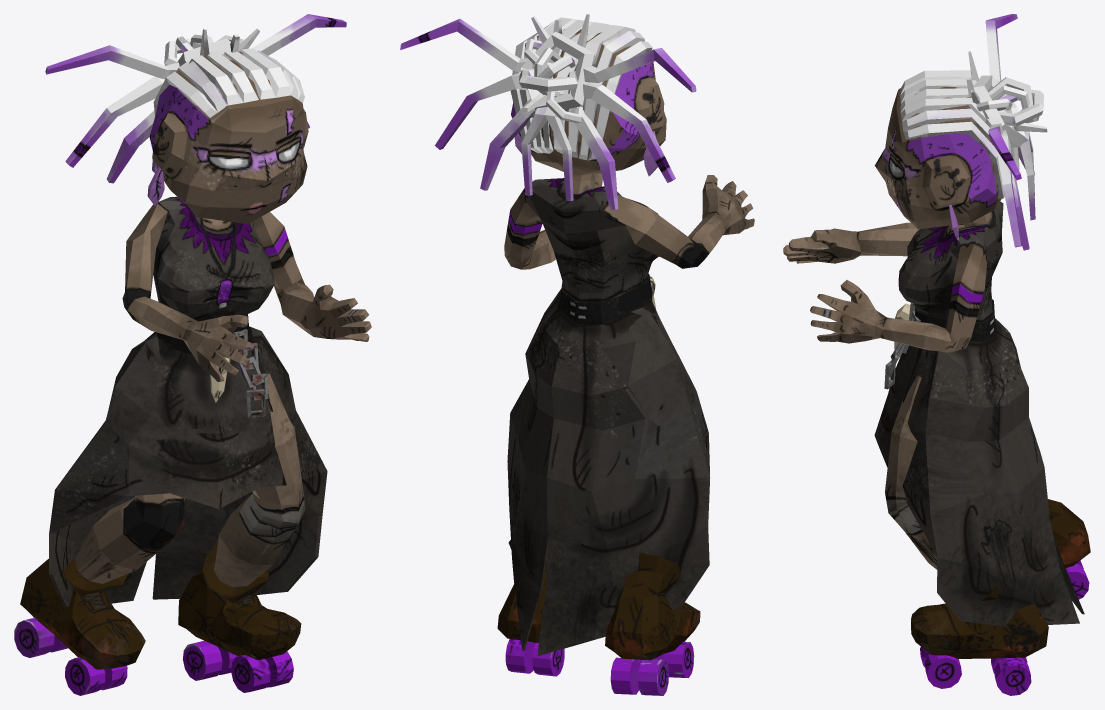
The model's file is bruja_000016.obj.
3 renders of one model, left to right at view 1: azimuth 30°, elevation 25°; view 2: azimuth 150°, elevation 25°; view 3: azimuth 270°, elevation 25°, orthographic. The views are drawn at different scales.
Visible parts, largest first — view 1: Bruja_Plane.001; view 2: Bruja_Plane.001; view 3: Bruja_Plane.001.
Boxes of the visible parts, box(x1,y1,x2,y2) form: Bruja_Plane.001: box(14, 14, 371, 695); Bruja_Plane.001: box(400, 14, 754, 695); Bruja_Plane.001: box(783, 14, 1090, 695).
Size of the model in its own units: 7.58 by 15.81 by 7.1.
